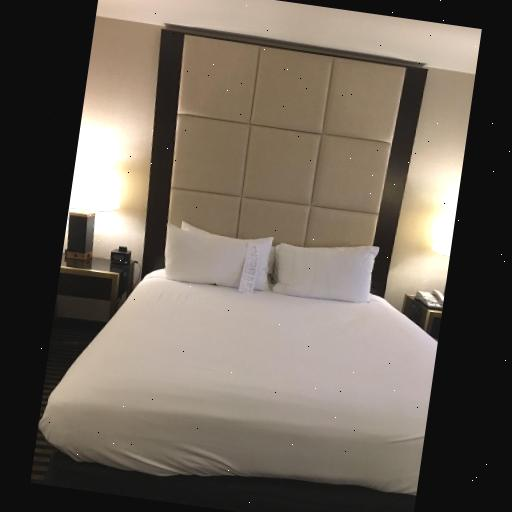clean_bed: (47, 29, 441, 494)
organised_pillow: (162, 222, 376, 310)
